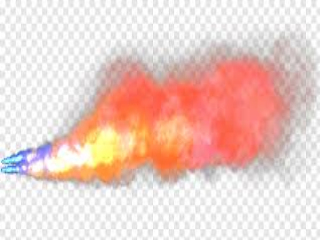fire: (53, 63, 278, 180)
